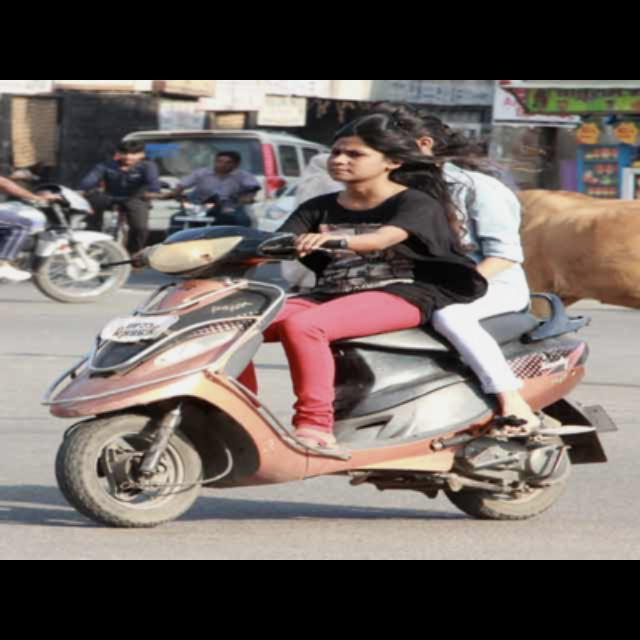Without Helmet: (324, 114, 414, 192)
